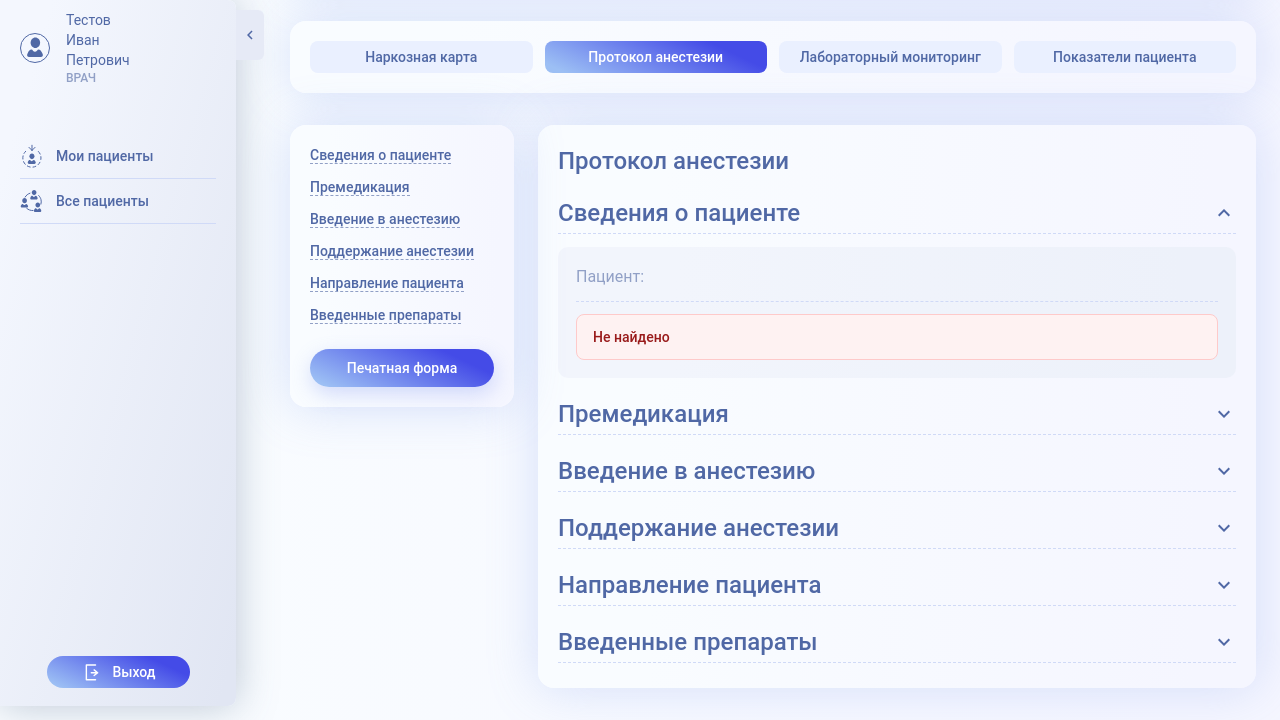
Test case: протокол анестезии › разделы протокола и блок «Введенные препараты» с суммарными дозами из карты
The width and height of the screenshot is (1280, 720).
(page scrolled)
Expected: the button "Сведения о пациенте" is shown, [558,197,1236,229]
Expected: the button "Премедикация" is shown, [558,398,1236,430]
Click the button "Введенные препараты": (688, 642) [558,626,1236,658]
(page scrolled)
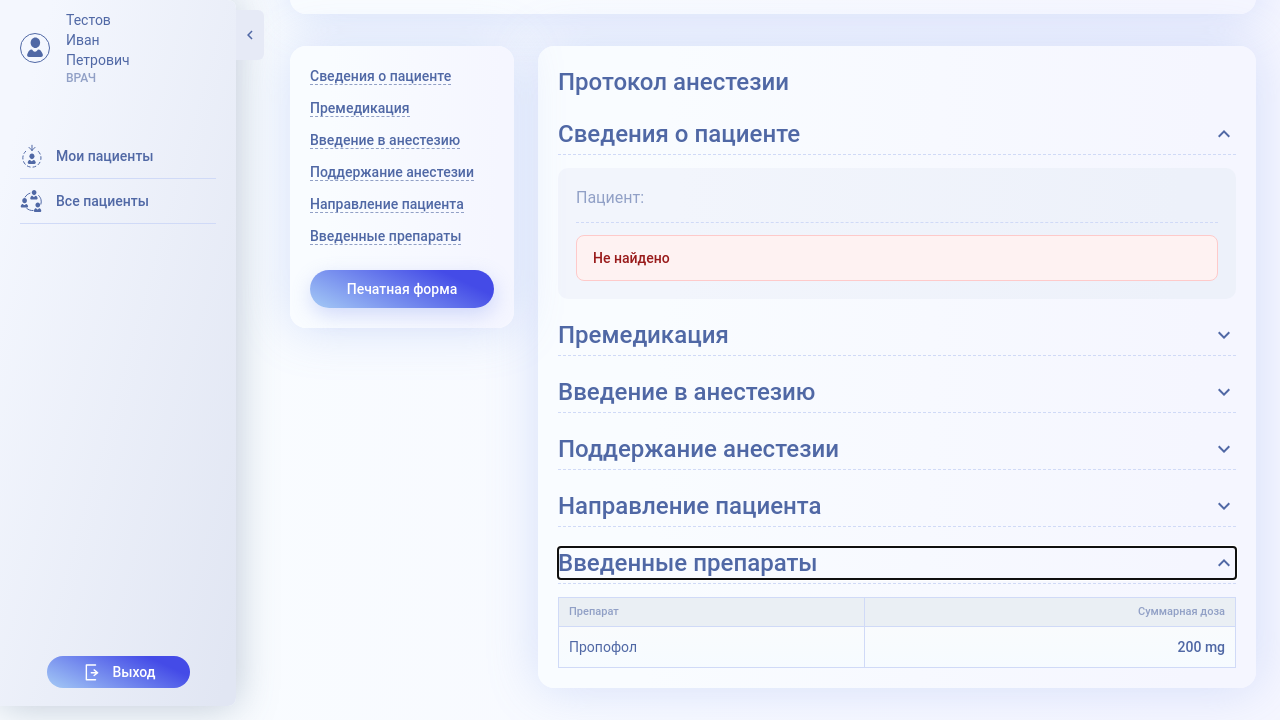
Now the text "Пропофол" is shown, box [558,626,864,668]
Now the text "200 mg" is shown, box [864,626,1236,668]
